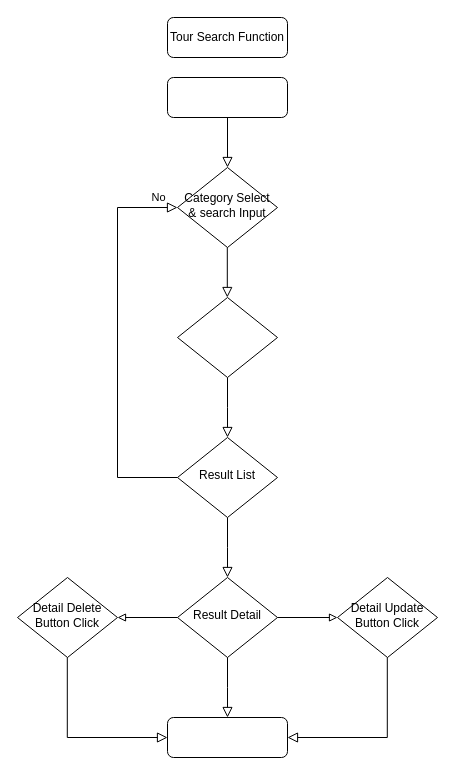
Some shapes in this 455 by 775 pixel diagram are drawn without their labels. Each missing label, with the box of its shape:
Button Click: (176, 296, 278, 378)
End: (166, 716, 288, 758)
Tour Page Access: (166, 76, 288, 118)
